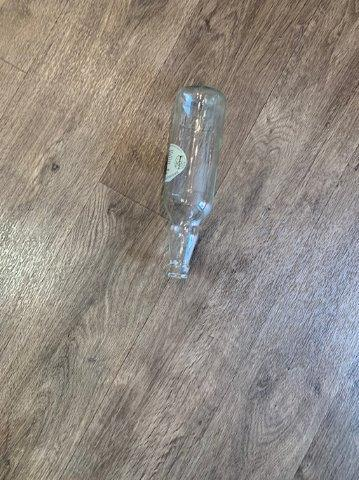botolkaca: (164, 87, 226, 279)
